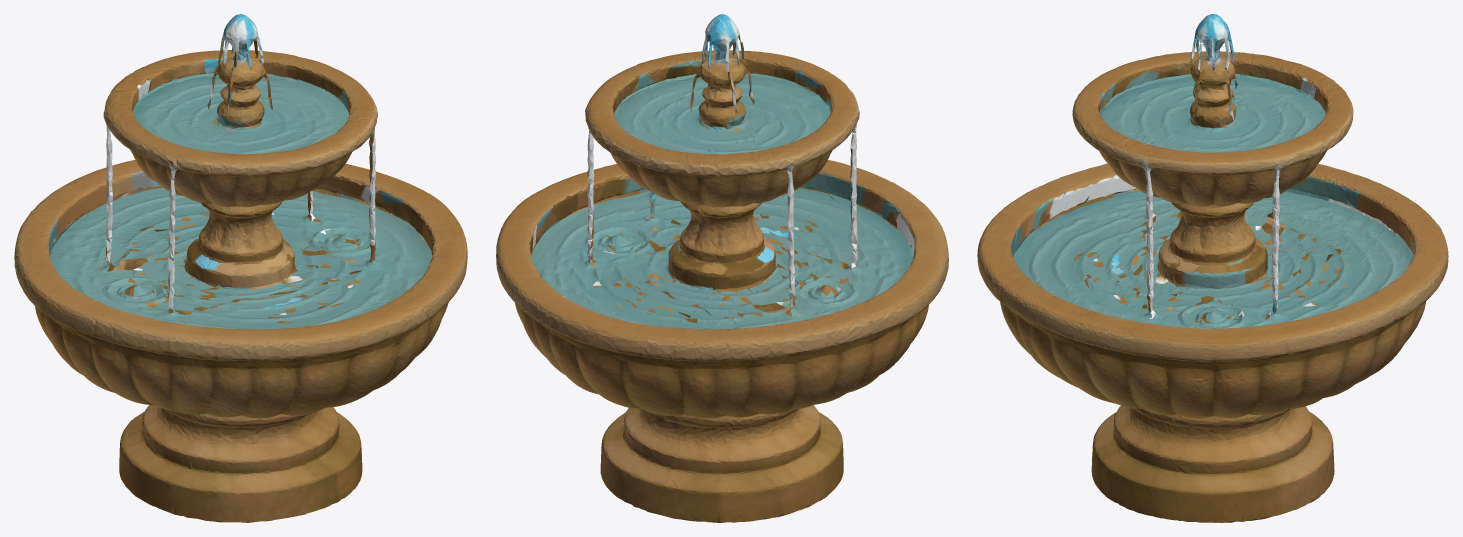
Rendered from wc-fountain-paint.glb.
3 renders of one model, left to right at view 1: azimuth 30°, elevation 25°; view 2: azimuth 150°, elevation 25°; view 3: azimuth 270°, elevation 25°, orthographic.
Visible parts, largest first — view 1: geometry_0; view 2: geometry_0; view 3: geometry_0.
Part boxes in pixels (x1,y1,x2,y2): geometry_0: [14, 14, 467, 522]; geometry_0: [496, 14, 948, 522]; geometry_0: [977, 14, 1448, 522].
Size of the model in its own units: 1.82 by 2 by 1.86.
Materials: 1 (1 with a texture image).
